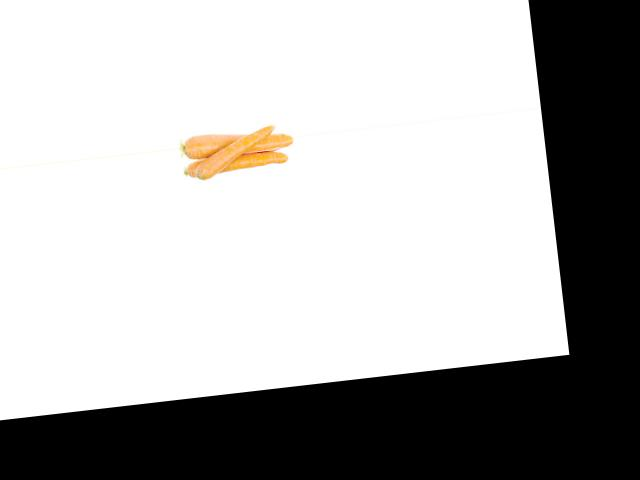carrot: (178, 124, 298, 158)
